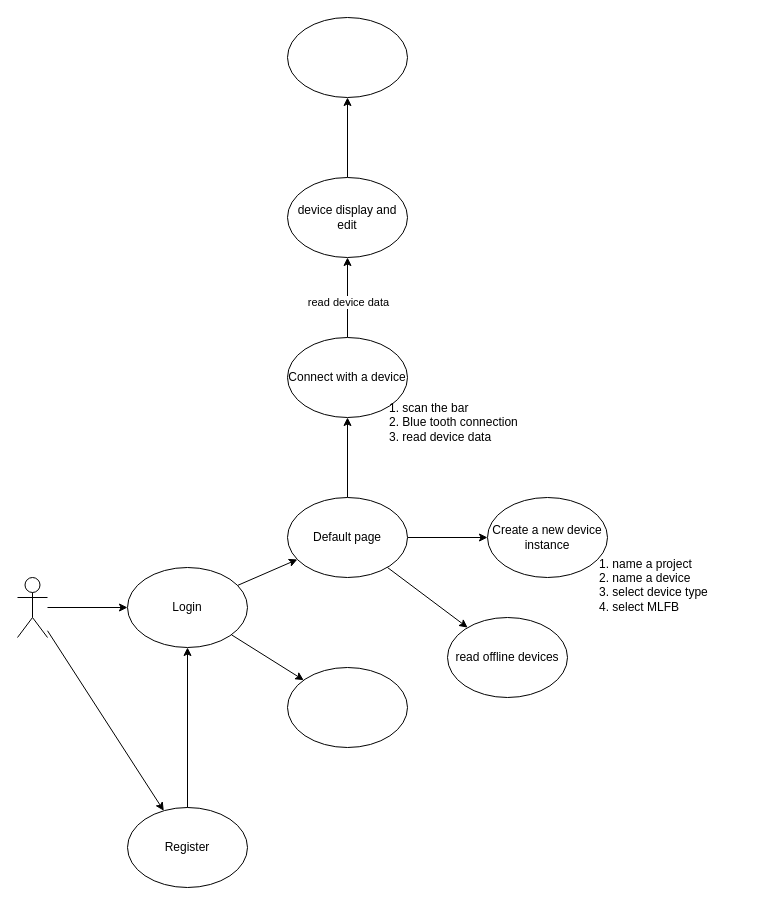
Image size: 765x905. Some labels were removed from this diagram. Here are the shapes that lost their labels. From the top down, the centre of each, then its label:
point (347, 57): Save parameter or send CMD to device
point (32, 607): Actor
point (347, 707): password change
